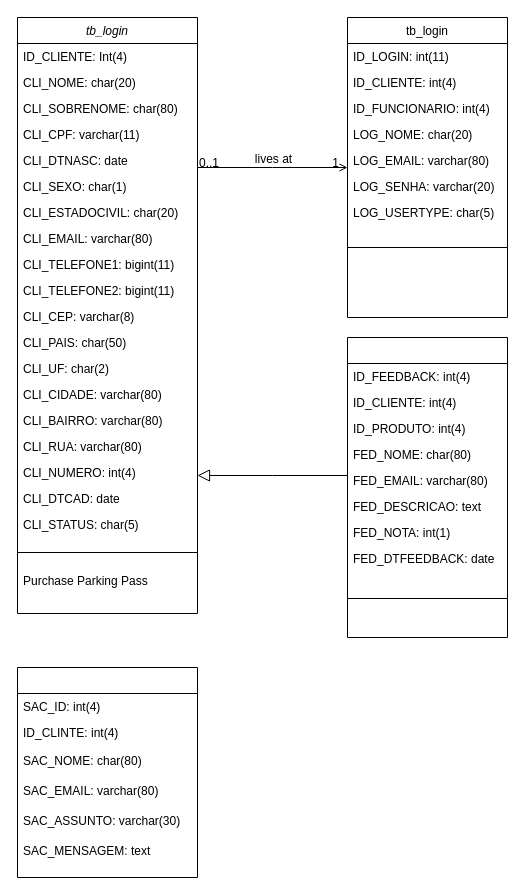
Some shapes in this 526 by 895 pixel diagram are drawn without their labels. Each missing label, with the box of its shape:
tb_feedback: (346, 336, 508, 638)
tb_sac: (16, 666, 198, 878)
